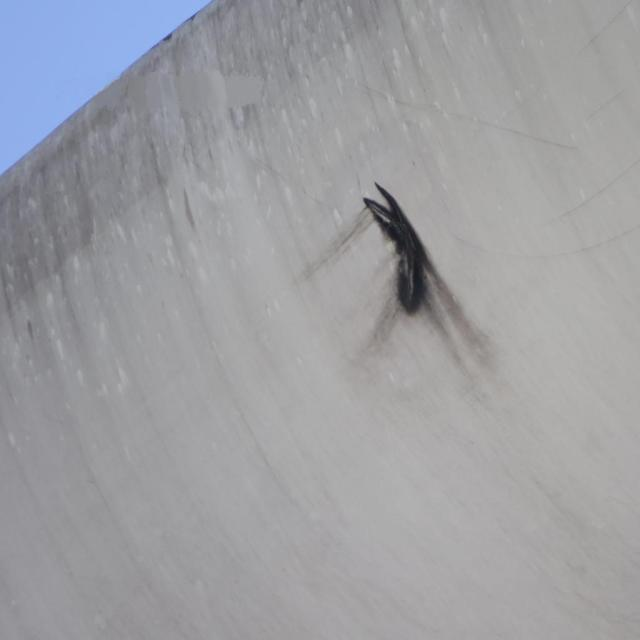crack: (344, 177, 451, 335)
